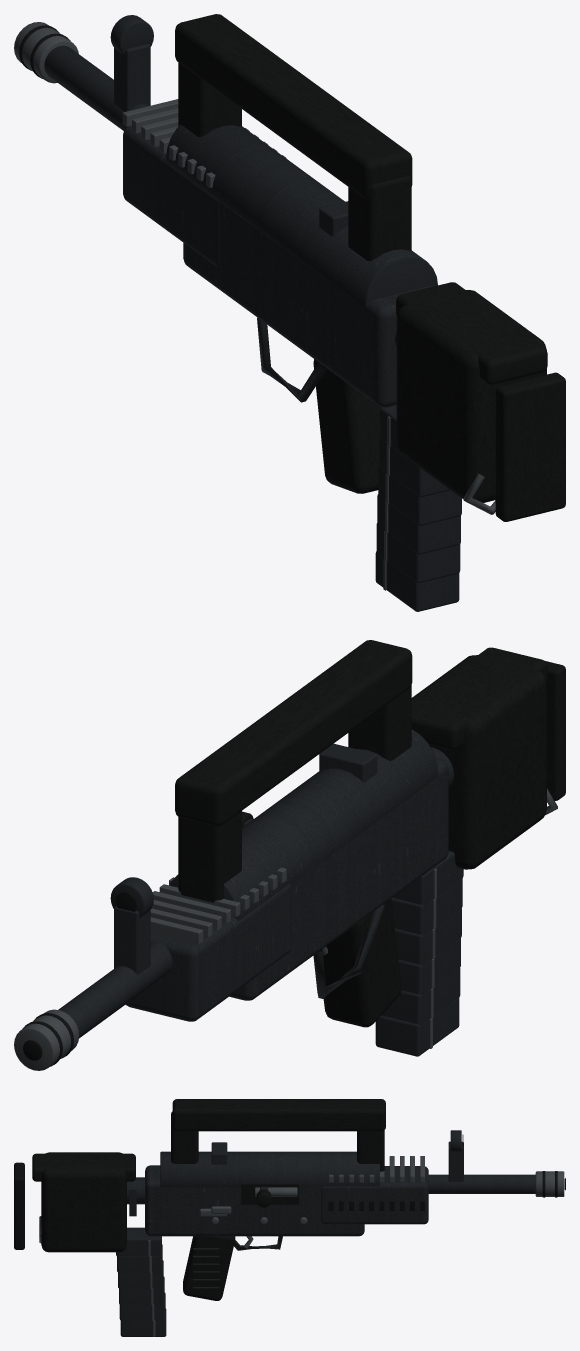
File: famas.glb
3 renders of one model, top to bottom at view 1: azimuth 30°, elevation 25°; view 2: azimuth 150°, elevation 25°; view 3: azimuth 270°, elevation 25°, orthographic. The views are drawn at different scales.
Visible parts, largest first — view 1: weapon_Weapon finish / Parkerized steel, weapon_Polymer, weapon_Weapon finish / Polymer, magazine_Parkerized steel, weapon_Parkerized steel, weapon_Machined edges; view 2: weapon_Weapon finish / Parkerized steel, weapon_Polymer, weapon_Weapon finish / Polymer, magazine_Parkerized steel, weapon_Parkerized steel, weapon_Machined edges, magazine_Machined edges; view 3: weapon_Weapon finish / Parkerized steel, weapon_Polymer, weapon_Weapon finish / Polymer, magazine_Parkerized steel, weapon_Parkerized steel, weapon_Machined edges, bolt_Machined edges, magazine_Machined edges.
Boxes of the visible parts, box(x1,y1,x2,y2) form: weapon_Weapon finish / Parkerized steel: box(123, 124, 437, 407); weapon_Polymer: box(19, 14, 565, 521); weapon_Weapon finish / Polymer: box(396, 282, 547, 502); magazine_Parkerized steel: box(375, 405, 461, 611); weapon_Parkerized steel: box(44, 15, 396, 402); weapon_Machined edges: box(14, 22, 495, 514); weapon_Weapon finish / Parkerized steel: box(125, 729, 448, 1021); weapon_Polymer: box(22, 640, 565, 1066); weapon_Weapon finish / Polymer: box(411, 647, 547, 869); magazine_Parkerized steel: box(375, 851, 463, 1056); weapon_Parkerized steel: box(58, 743, 453, 1038); weapon_Machined edges: box(14, 788, 557, 1070); magazine_Machined edges: box(429, 868, 436, 1048); weapon_Weapon finish / Parkerized steel: box(145, 1151, 428, 1236); weapon_Polymer: box(14, 1099, 565, 1300); weapon_Weapon finish / Polymer: box(32, 1152, 135, 1252); magazine_Parkerized steel: box(116, 1227, 166, 1336); weapon_Parkerized steel: box(127, 1130, 535, 1288); weapon_Machined edges: box(39, 1156, 564, 1243); bolt_Machined edges: box(255, 1187, 297, 1196); magazine_Machined edges: box(148, 1240, 155, 1336).
Size of the model in its own units: 0.1329 by 0.4115 by 0.905.
5 materials, 5 textured.
